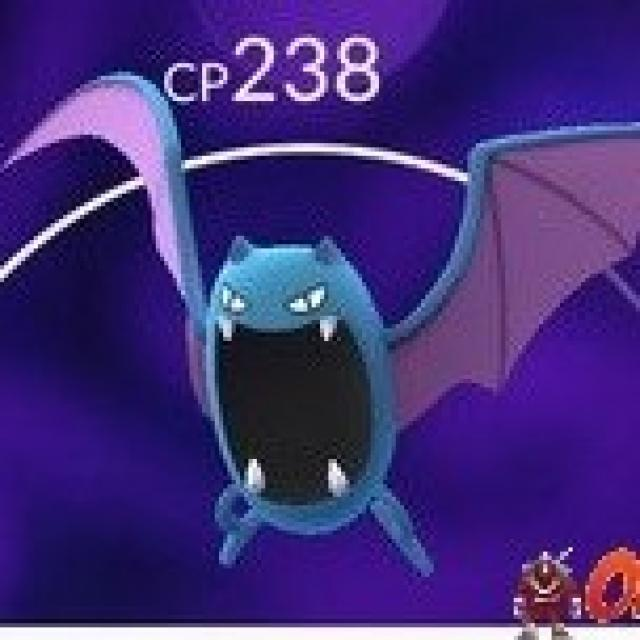Golbat: (146, 148, 516, 570)
